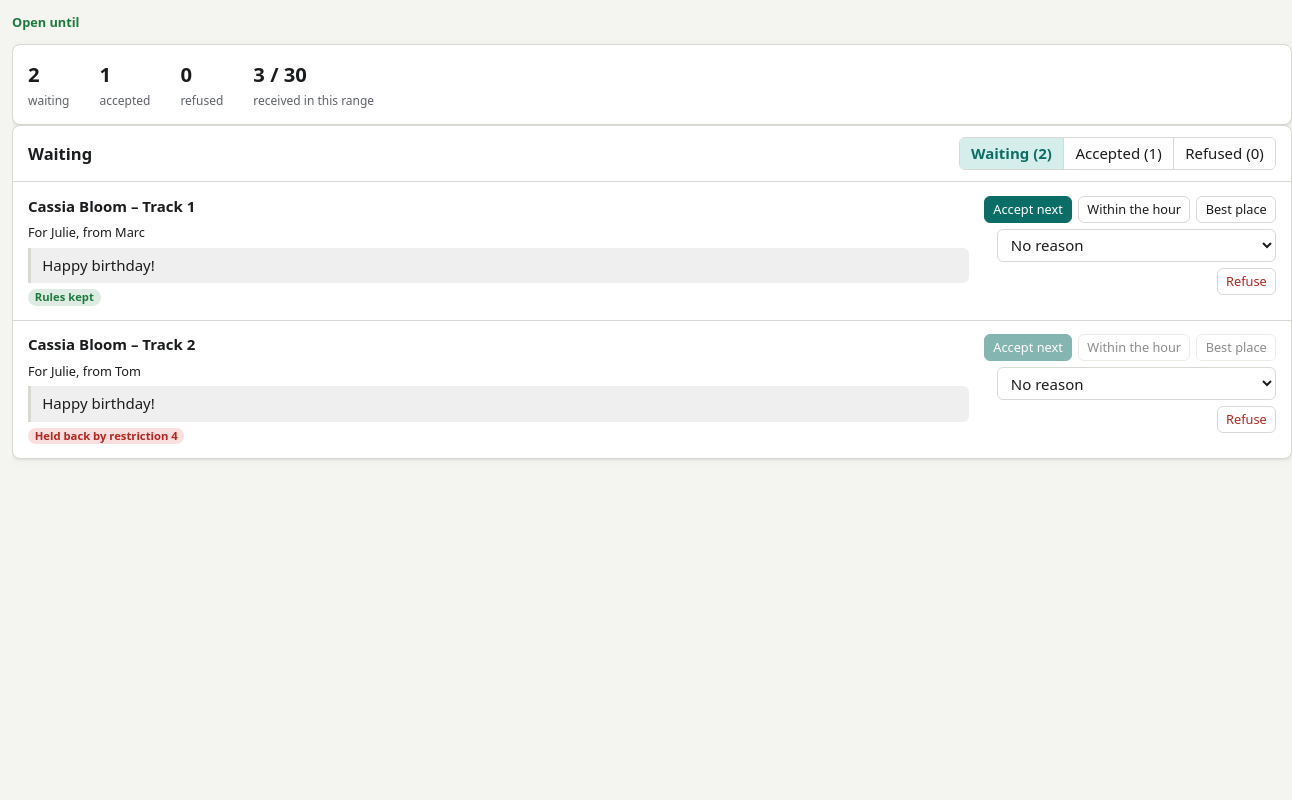
Test: dedications › lists the requests with what the rules say, accepts and refuses
Expected: the text "Cassia Bloom – Track 1" is shown, [28, 196, 195, 216]
Expected: the text "For Julie, from Marc" is shown, [28, 224, 145, 242]
Click the button "Best place" in the row of "Cassia Bloom – Track 1" at (1236, 209), box [1196, 196, 1276, 223]
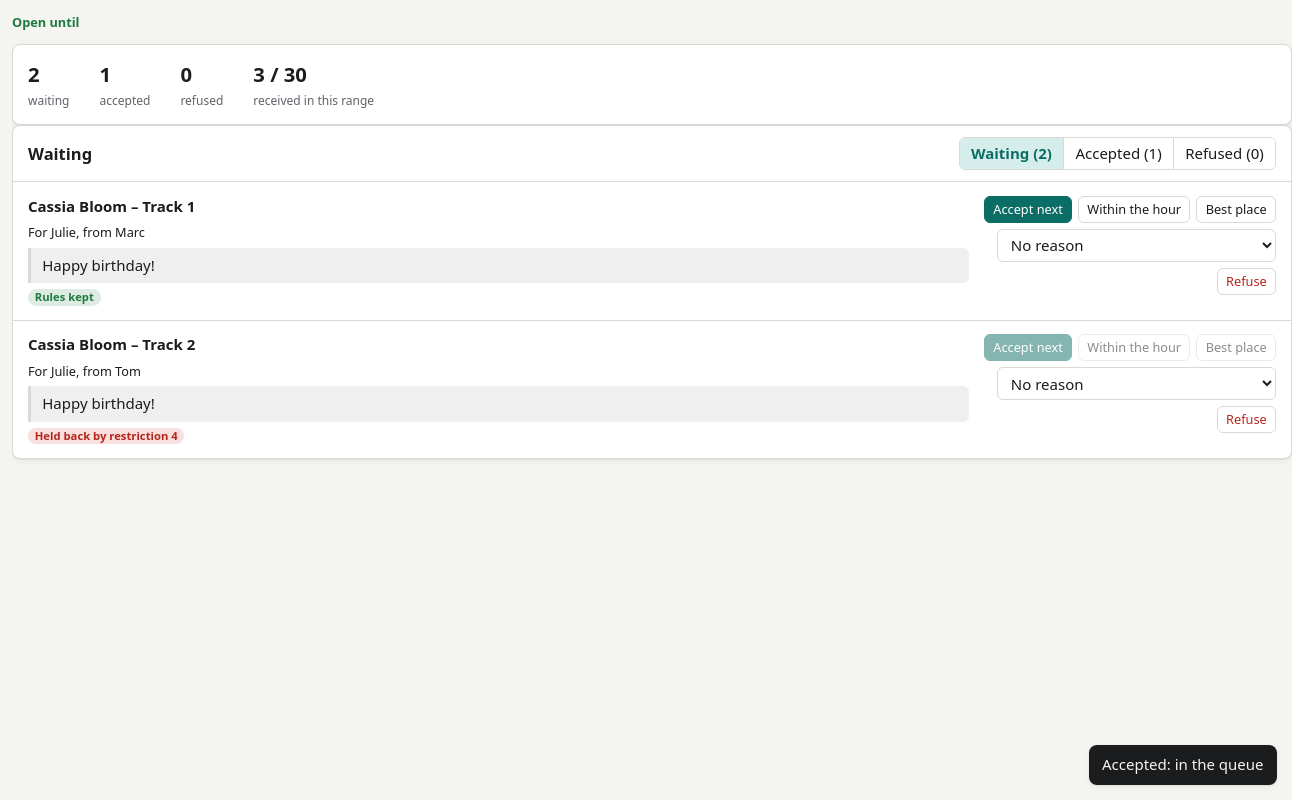
Select "The track just played" in the dropdown named "Reason" in the row of "For Julie, from Marc" at (1136, 245), box [997, 229, 1276, 262]
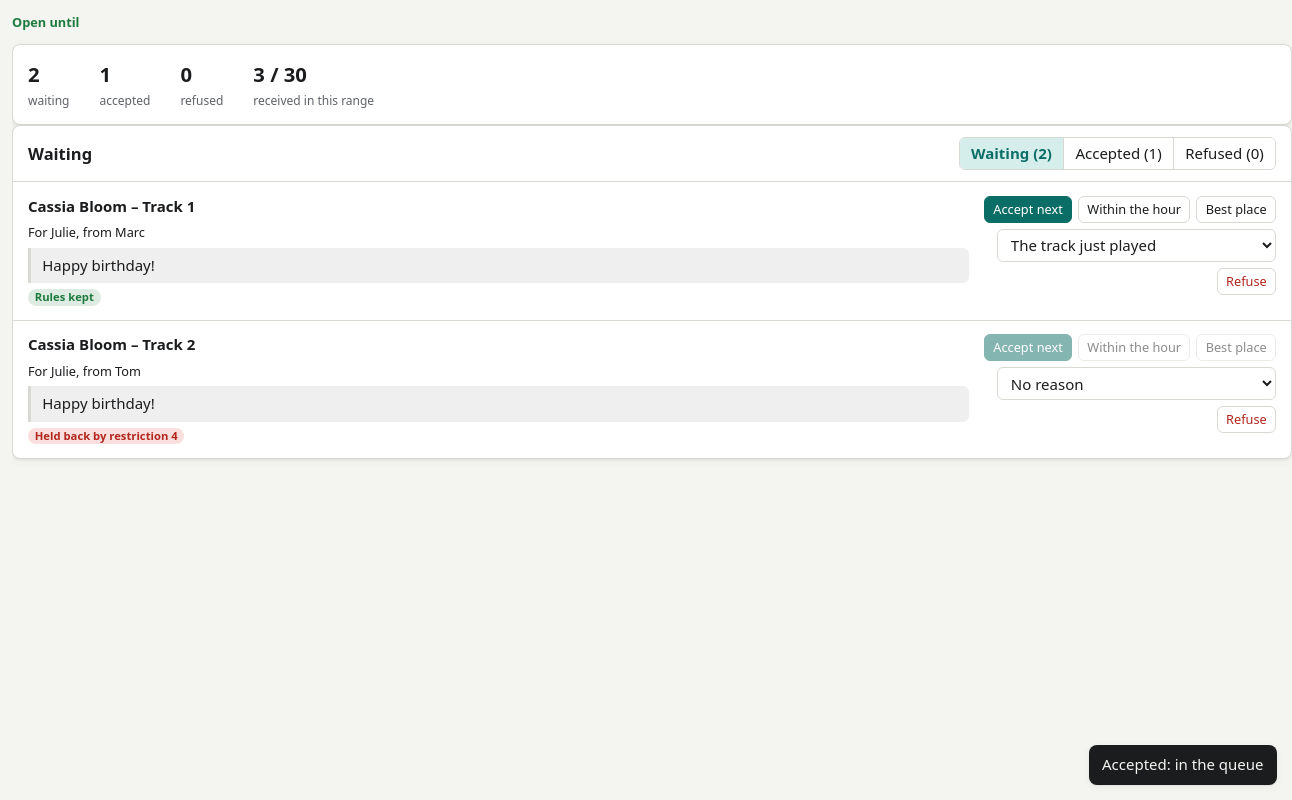
Click the button "Refuse" in the row of "Rules kept" at (1246, 281), box [1217, 268, 1276, 295]
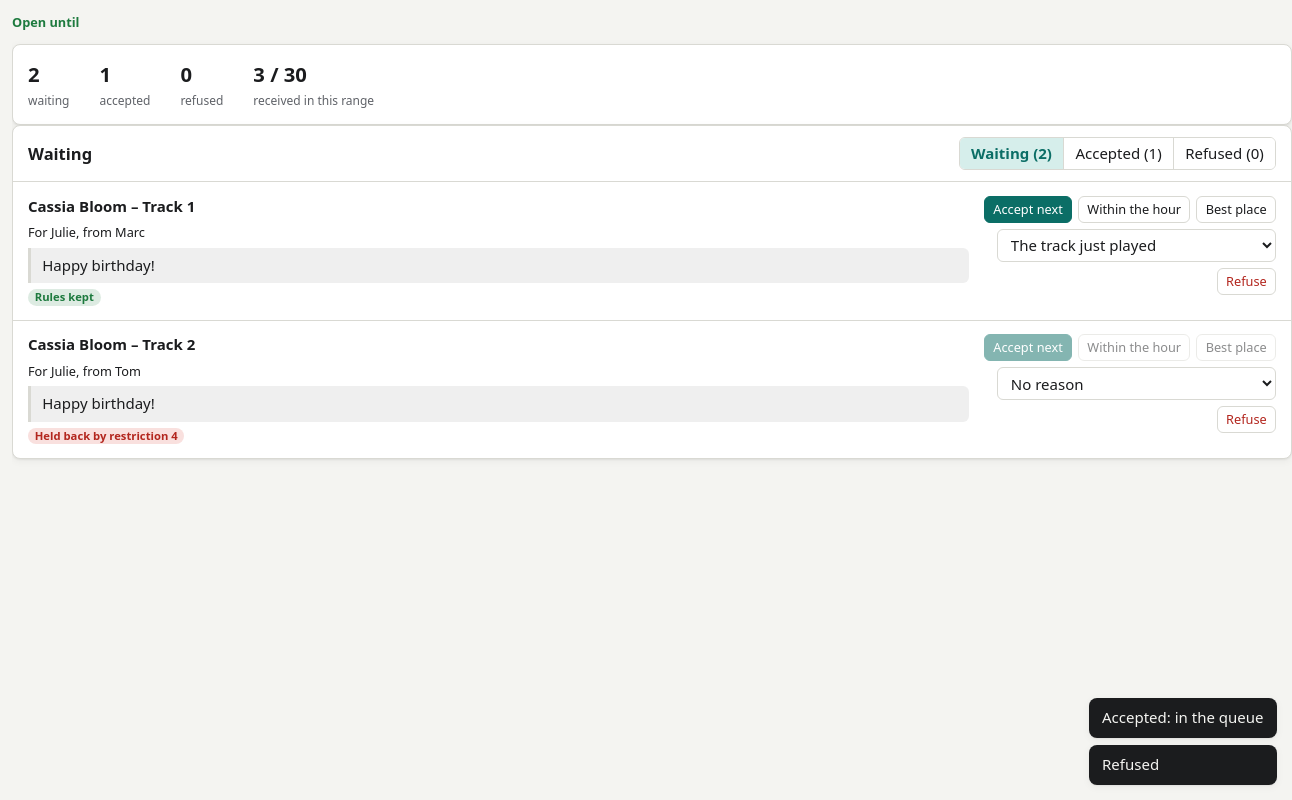
The accepted and played ones.
Click the button "Accepted (1)" at (1118, 154), box [1063, 138, 1173, 169]
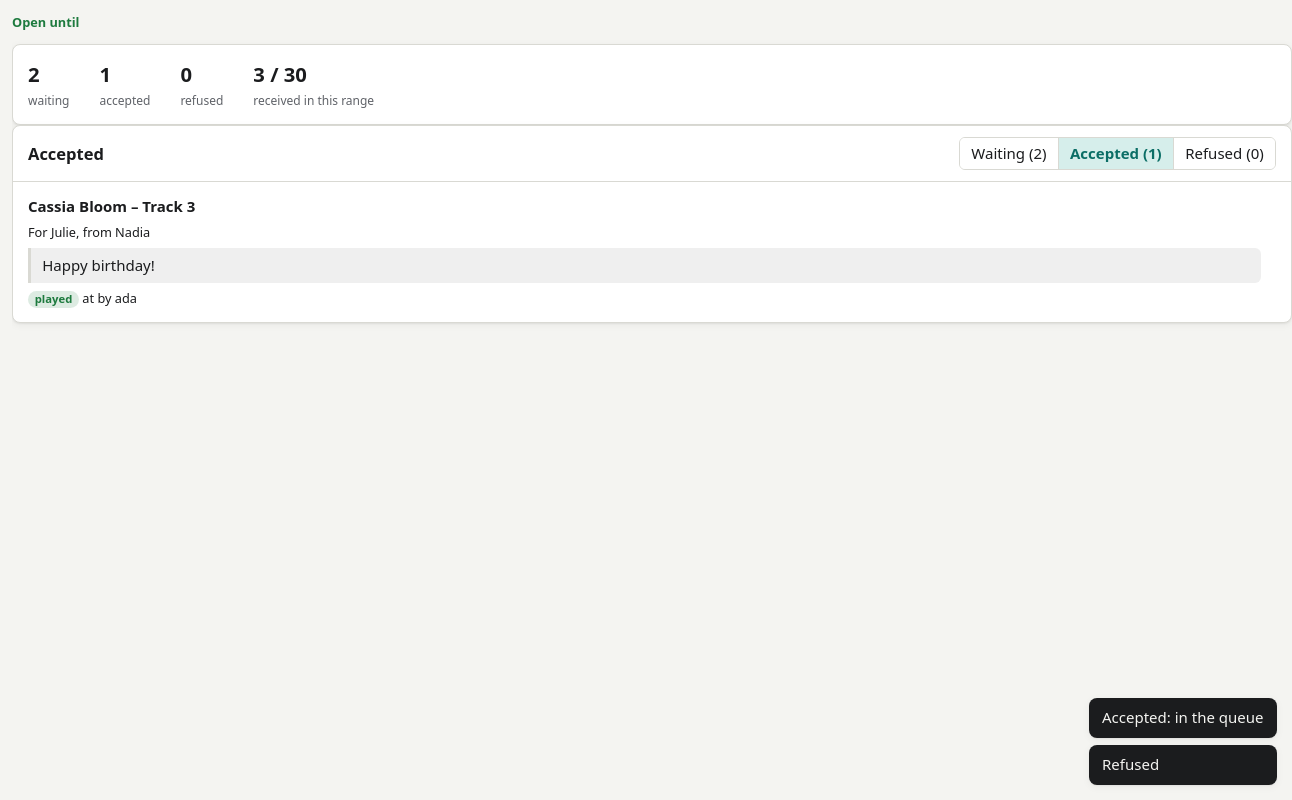
Expected: the text "For Julie, from Nadia" is shown, [28, 224, 150, 242]
Expected: the text "played" is shown, [28, 291, 79, 308]
